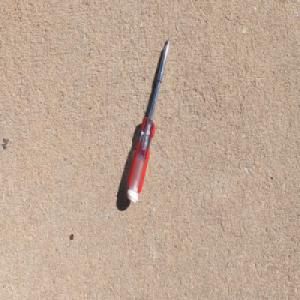Screwdriver: (126, 33, 171, 204)
